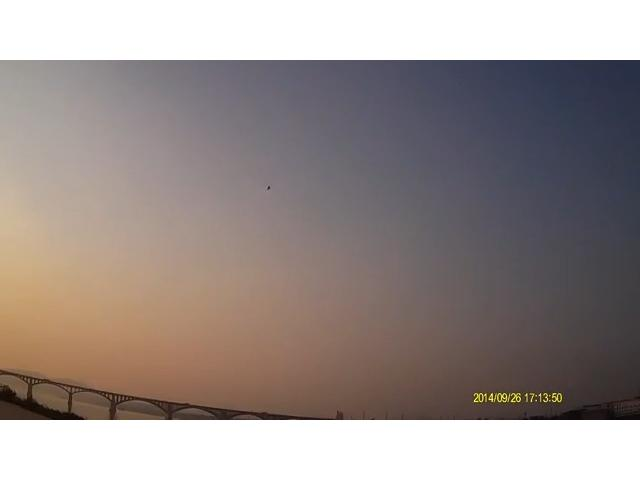Anti-Drone: (258, 178, 280, 196)
